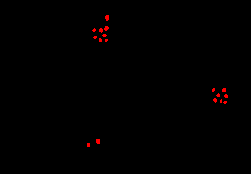Target: (104, 26, 109, 31), (105, 15, 109, 21), (99, 28, 103, 33), (213, 98, 217, 103), (96, 139, 100, 144), (92, 28, 96, 32), (222, 88, 226, 92), (216, 93, 220, 97), (224, 94, 228, 98), (102, 34, 107, 37), (93, 36, 97, 39), (99, 38, 102, 42), (212, 88, 215, 92), (223, 101, 227, 104), (87, 143, 90, 147), (105, 39, 108, 42), (220, 99, 222, 103)
